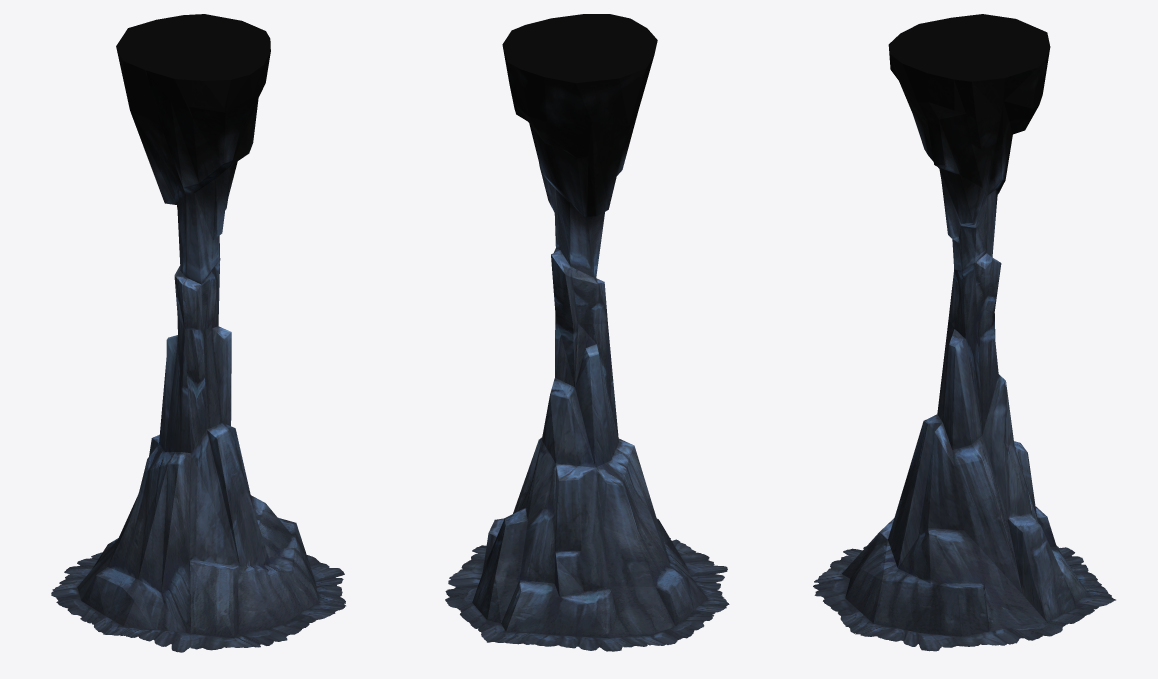
File: mine_column_free_01.fbx
3 views of the same model, side by side, from view 1: azimuth 30°, elevation 25°; view 2: azimuth 150°, elevation 25°; view 3: azimuth 270°, elevation 25° (orthographic).
Visible parts, largest first — view 1: obj1.024; view 2: obj1.024; view 3: obj1.024.
Boxes of the visible parts, x1,y1,x2,y2 form: obj1.024: (51,14,345,652); obj1.024: (445,14,729,651); obj1.024: (813,14,1115,651).
Size of the model in its own units: 9.1 by 16 by 9.69.
